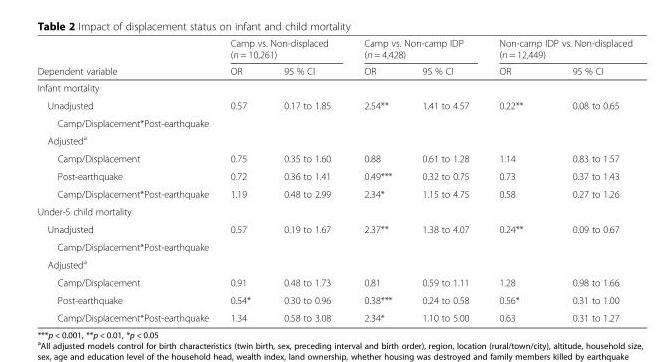table: (36, 37, 631, 323)
table column: (36, 37, 218, 323), (547, 37, 631, 323), (266, 37, 346, 323), (406, 37, 483, 323), (483, 37, 547, 323), (346, 37, 406, 323), (218, 37, 266, 323)
table column header: (36, 37, 631, 79)
table projected row header: (36, 130, 631, 149), (36, 254, 631, 273), (36, 202, 631, 220), (36, 79, 631, 96)
table row: (36, 37, 631, 62), (36, 130, 631, 149), (36, 254, 631, 273), (36, 149, 631, 167), (36, 184, 631, 202), (36, 202, 631, 220), (36, 290, 631, 308), (36, 62, 631, 79), (36, 79, 631, 96), (36, 96, 631, 113), (36, 113, 631, 130), (36, 167, 631, 184), (36, 220, 631, 237), (36, 237, 631, 254), (36, 273, 631, 290), (36, 308, 631, 323)
table spanning cell: (36, 37, 218, 79), (483, 37, 631, 62), (346, 37, 483, 62), (218, 37, 346, 62), (547, 96, 631, 130), (547, 220, 631, 254), (266, 96, 346, 130), (266, 220, 346, 254), (406, 96, 483, 130), (406, 220, 483, 254), (483, 96, 547, 130), (483, 220, 547, 254), (346, 96, 406, 130), (346, 220, 406, 254), (218, 96, 266, 130), (218, 220, 266, 254)
